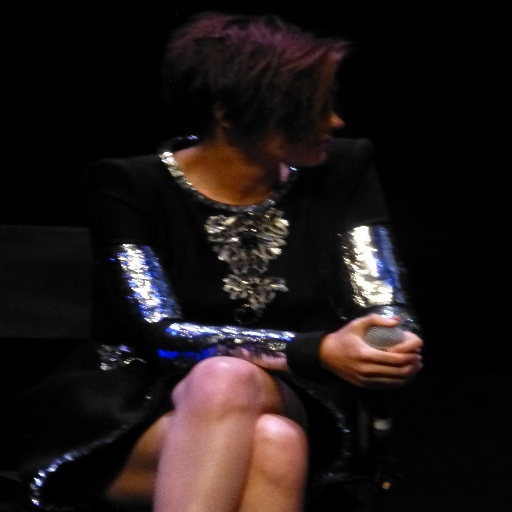hand: (315, 312, 427, 389), (382, 331, 424, 353)
